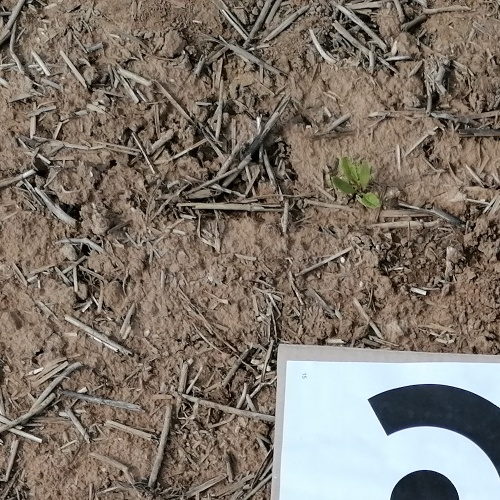beet: (333, 157, 381, 207)
